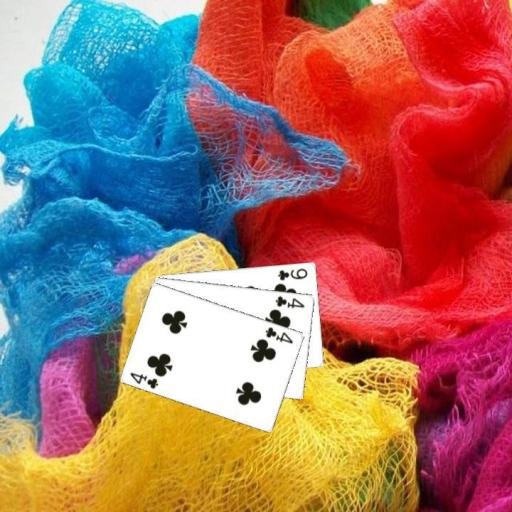4C: (263, 323, 295, 345), (127, 369, 160, 390), (273, 293, 307, 309)
9C: (275, 265, 310, 282)
